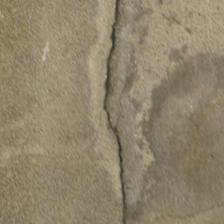Crack: (50, 1, 87, 219)
